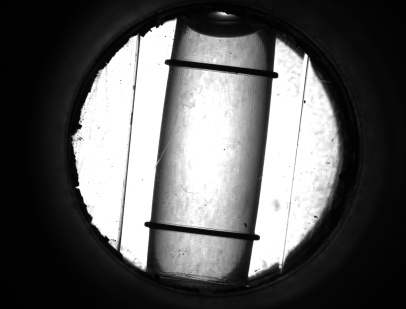line: (181, 57, 259, 83), (158, 220, 240, 243)
